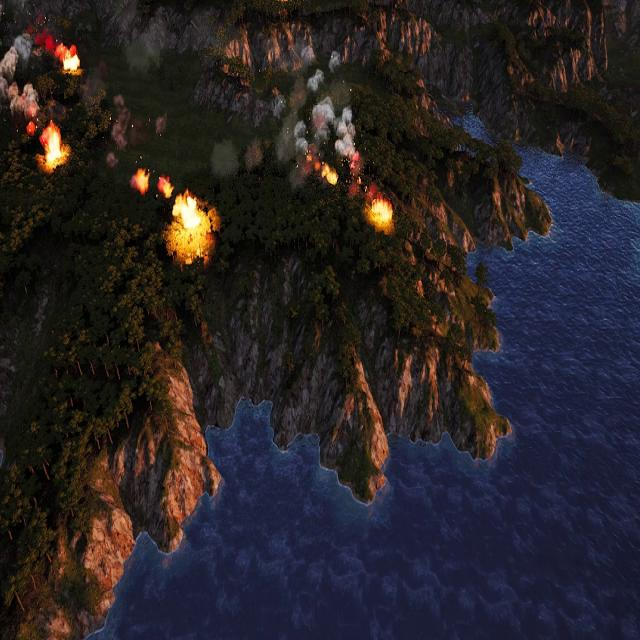fire: (170, 190, 214, 260), (130, 167, 172, 195), (42, 124, 64, 166), (370, 200, 394, 228), (319, 160, 340, 186), (61, 53, 81, 77)
smoke: (273, 46, 356, 171), (0, 29, 43, 134)
